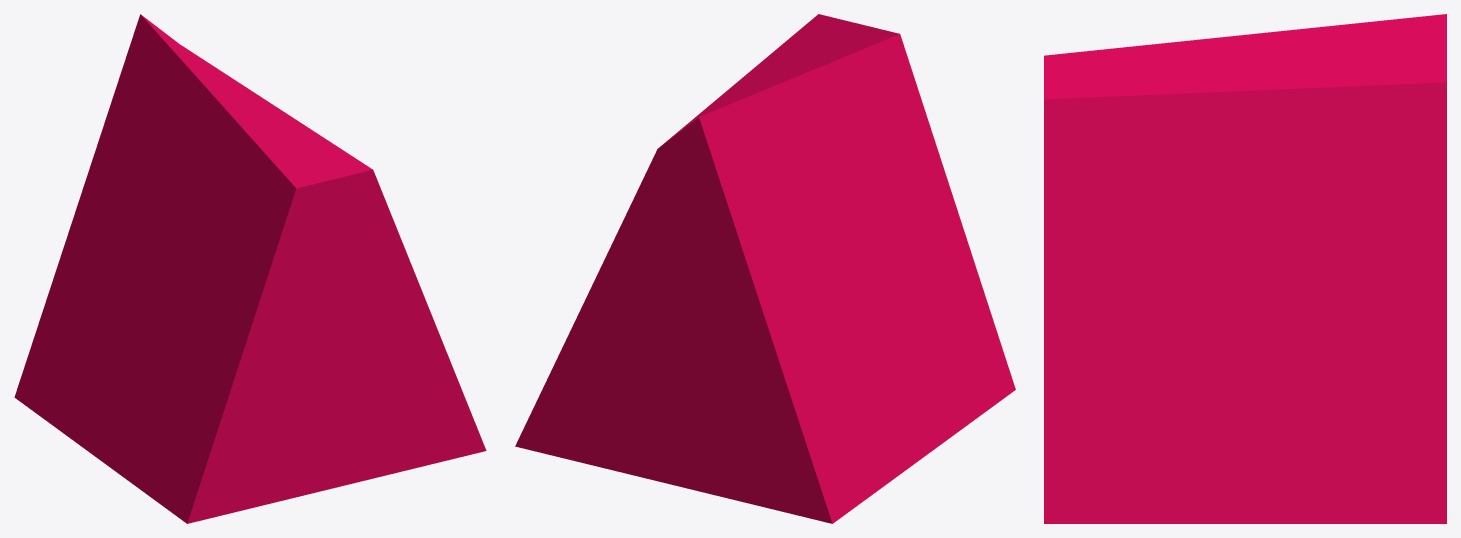
Rendered from projectile.fbx.
The picture shows the model from 3 angles, left to right: view 1: azimuth 30°, elevation 25°; view 2: azimuth 150°, elevation 25°; view 3: azimuth 270°, elevation 25°; orthographic projection. The views are drawn at different scales.
Visible parts, largest first — view 1: Cube; view 2: Cube; view 3: Cube.
Part boxes in pixels (x1=…): Cube: x1=14, y1=14, x2=486, y2=523; Cube: x1=515, y1=14, x2=1015, y2=523; Cube: x1=1044, y1=14, x2=1446, y2=523.
Size of the model in its own units: 18.81 by 21.18 by 18.81.
